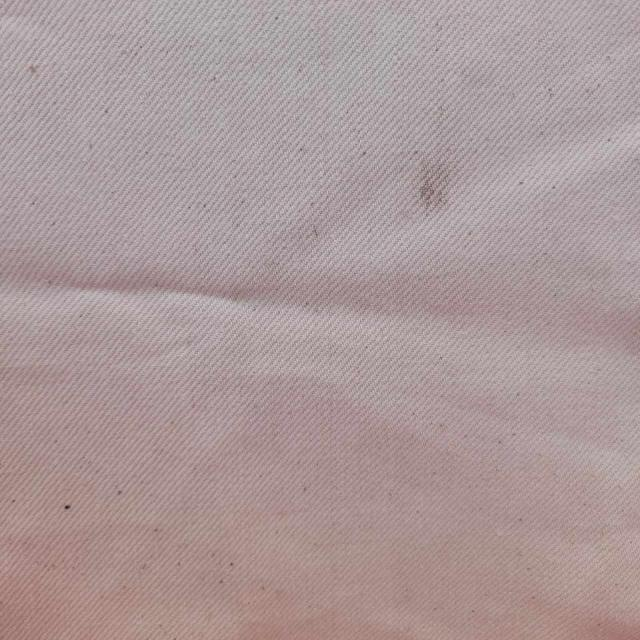taaaches: (400, 142, 480, 230)
